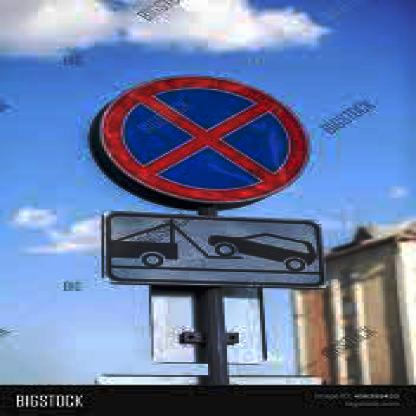No stopping: (95, 72, 317, 212)
